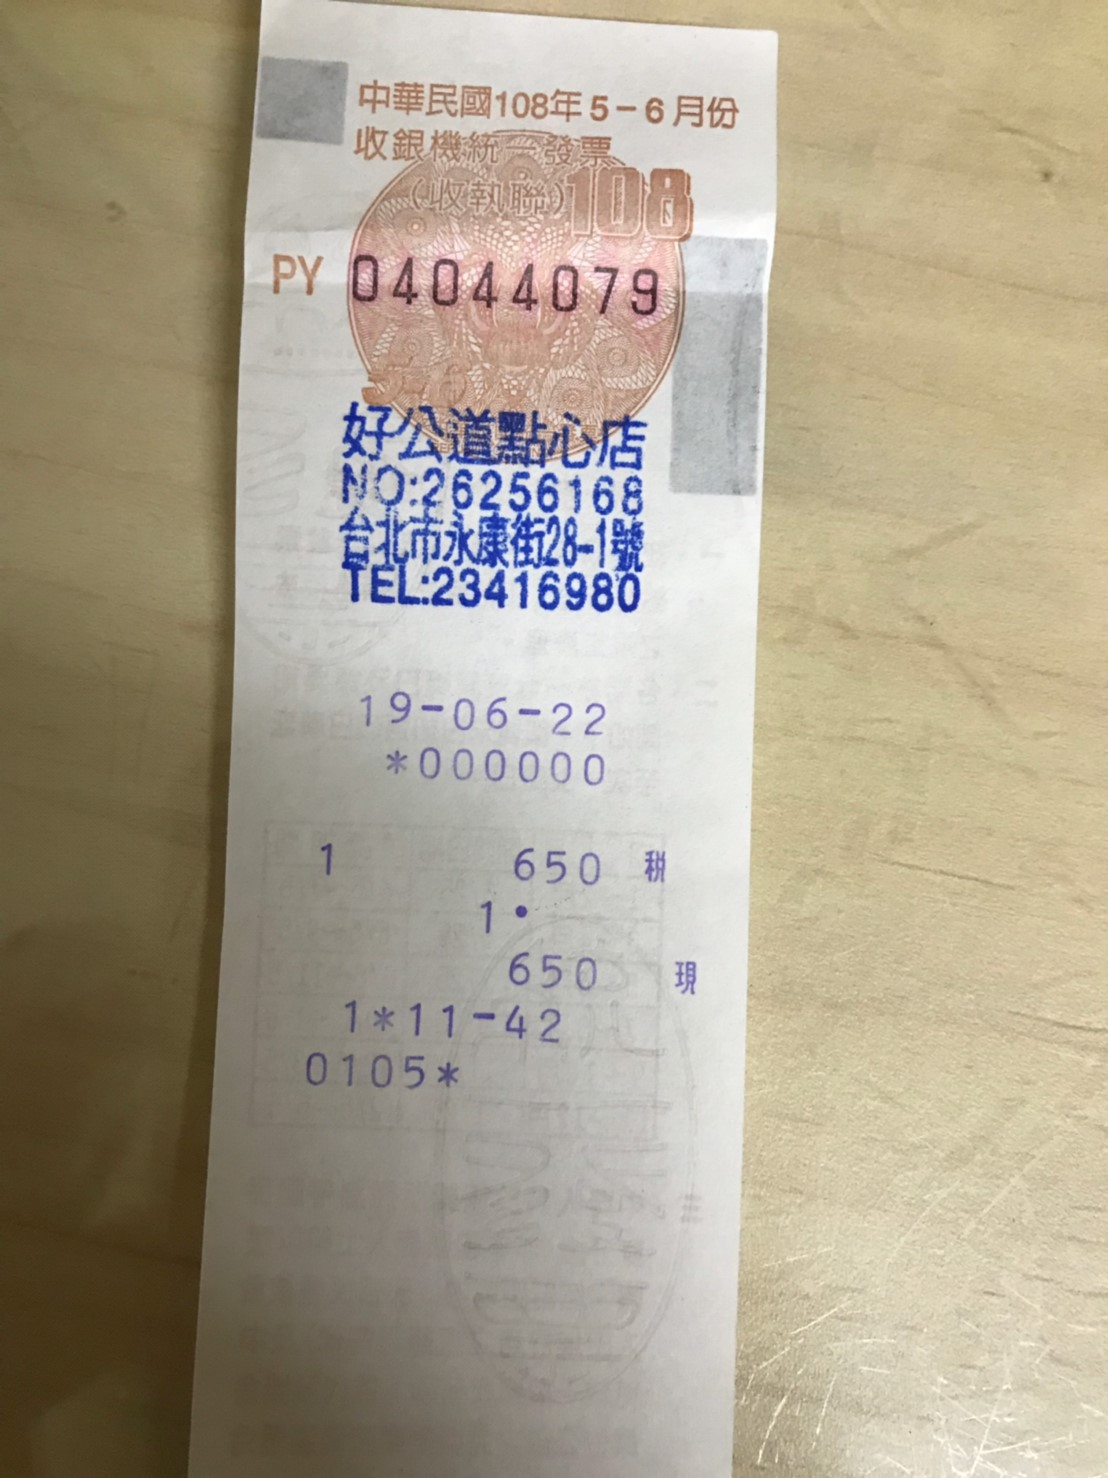Date_Old: (492, 80, 743, 143)
Number_Old: (347, 248, 666, 324)
